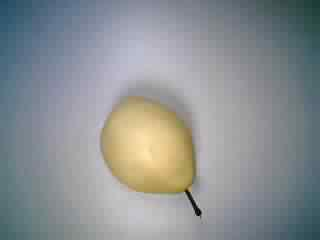pear: (85, 89, 212, 226)
